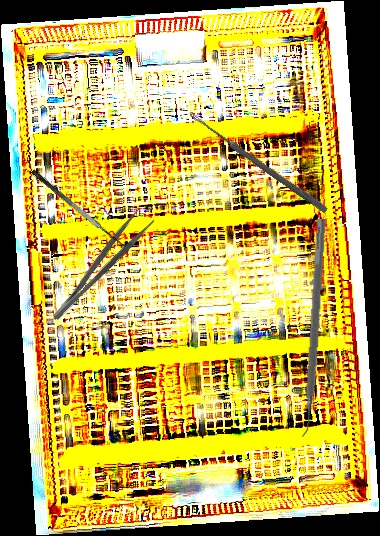Dressing Forceps: (40, 204, 158, 325)
Spatula Surgical: (30, 161, 133, 253), (294, 218, 327, 438)
Surgical Spoon: (186, 110, 330, 214)
